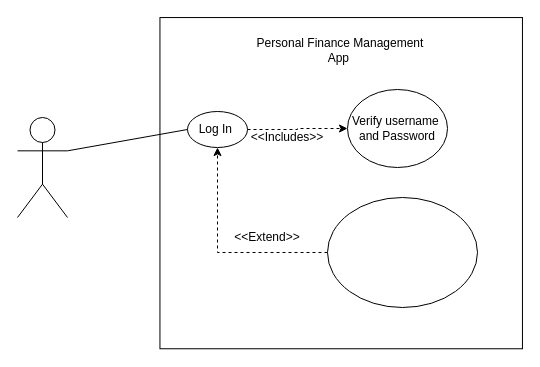
The diagram is 540 pixels wide and 367 high, and some of its shapes have lost their labels. Here are the shapes that lost their labels. From the top down, the centre of each, then its label:
pixel 42 167: User
pixel 402 252: Display error message if the password and/or username is incorrect
